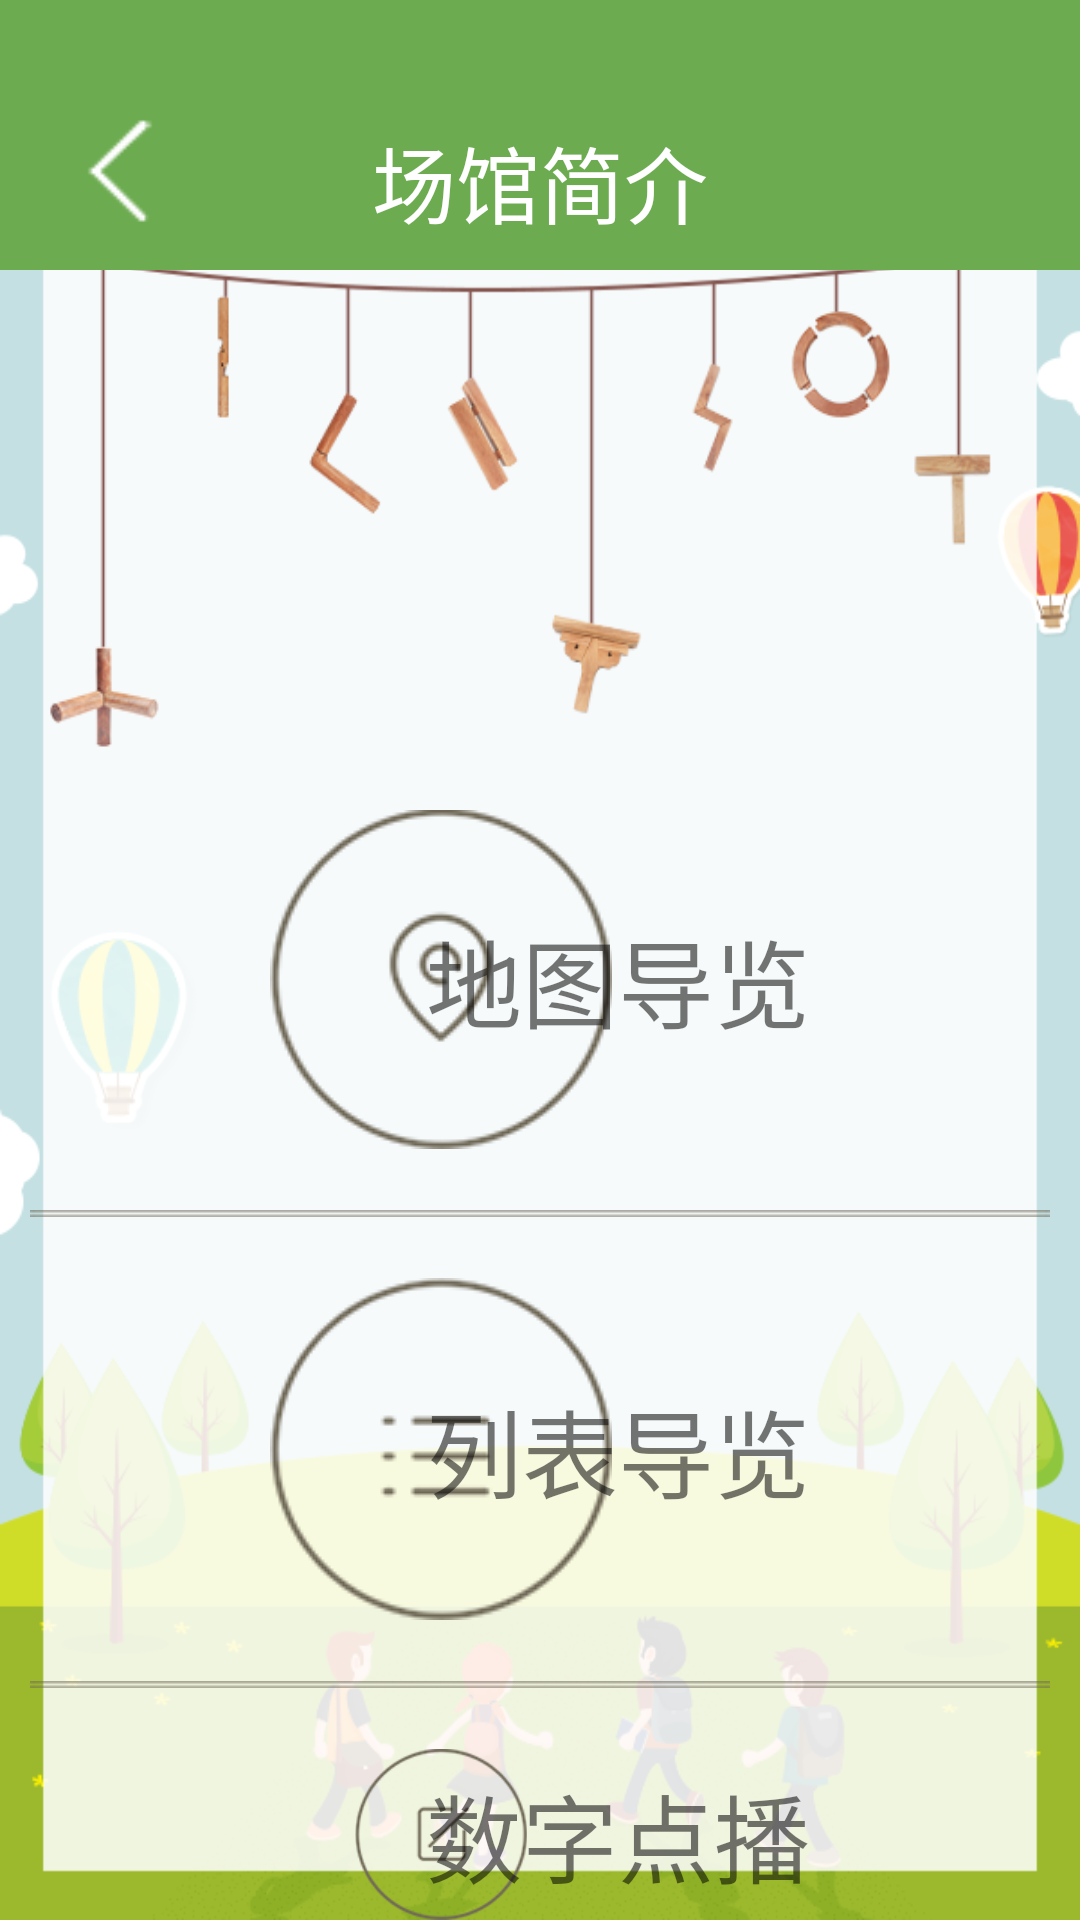

Point at icon controls on the screen. Image size 1080x1920, points as [x,y].
dao back: [120,171]
